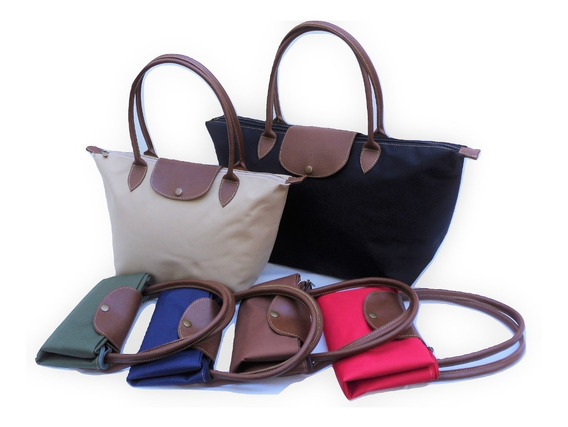cartera: (204, 17, 480, 287), (84, 55, 291, 296), (310, 270, 527, 402), (36, 274, 235, 380)
